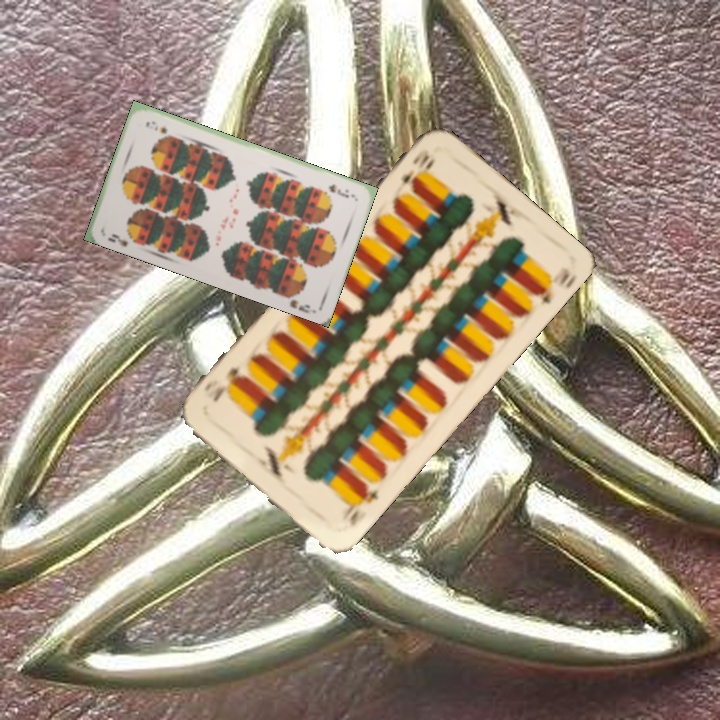E10: (345, 481, 382, 529), (397, 145, 432, 186)
S9: (103, 230, 141, 249), (325, 180, 358, 201)
